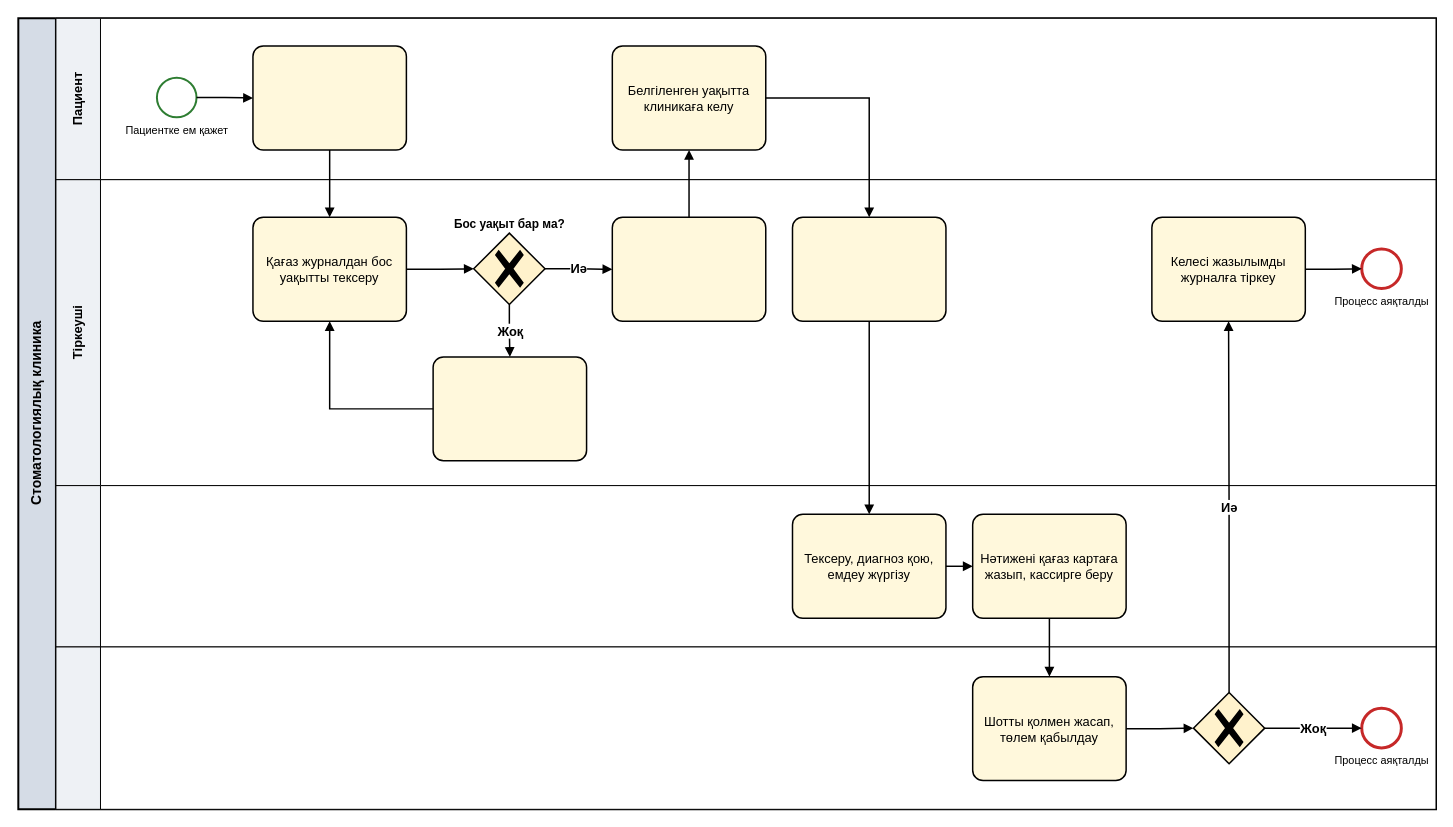
Some shapes in this 1453 by 827 pixel diagram are drawn without their labels. The box of each missing label's shape, as (x1, y1, x2, y2) in pixels:
Деректі қағаз картаға жазып, жазылымды тіркеу: (611, 216, 766, 322)
Кассир: (55, 646, 1436, 809)
Пациентке басқа уақыт ұсыну: (432, 356, 587, 461)
Тіркеушіге қоңырау шалып, жазылуды сұрау: (252, 45, 407, 150)
Тіс дәрігері: (55, 485, 1436, 647)
Қайта қабылдау қажет пе?: (1192, 691, 1265, 764)
Қағаз картаны іздеп, дәрігерге беру: (791, 216, 946, 322)
